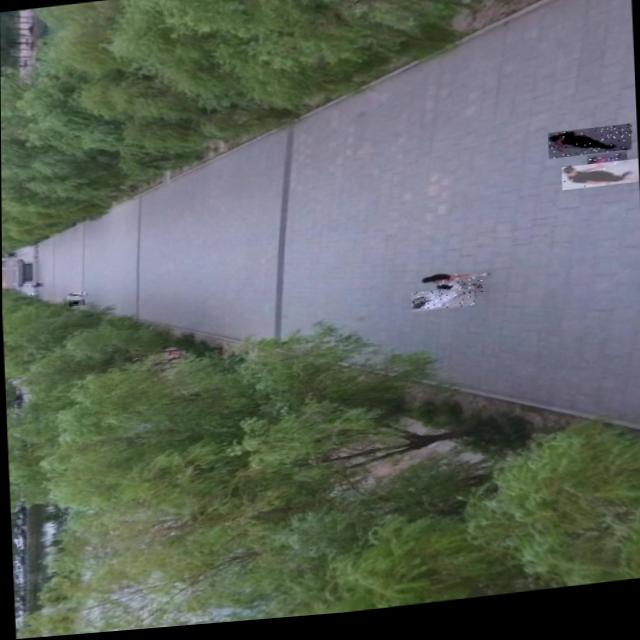Person: (548, 133, 633, 167), (560, 168, 638, 199), (410, 293, 474, 318), (421, 275, 488, 292), (434, 282, 481, 303), (586, 160, 627, 180), (68, 299, 84, 307), (66, 292, 86, 298), (30, 282, 42, 285), (30, 284, 42, 286), (29, 292, 37, 294)
